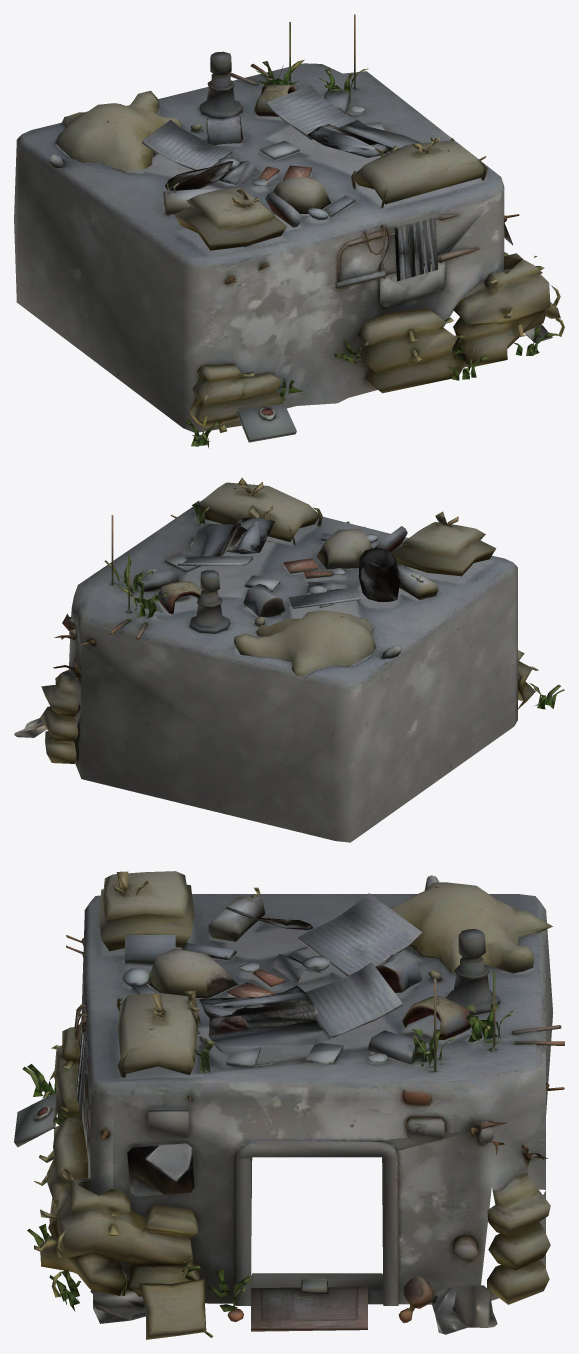
File: abandoned_fortification.glb
The picture shows the model from 3 angles, top to bottom: view 1: azimuth 30°, elevation 25°; view 2: azimuth 150°, elevation 25°; view 3: azimuth 270°, elevation 25°; orthographic projection. The views are drawn at different scales.
Parts seen in each view (by area): view 1: tripo_node_e37e1a8c-0bfc-4441-a656-458e9c6b03d7; view 2: tripo_node_e37e1a8c-0bfc-4441-a656-458e9c6b03d7; view 3: tripo_node_e37e1a8c-0bfc-4441-a656-458e9c6b03d7.
Part boxes in pixels (box(x1,y1,x2,y2)): tripo_node_e37e1a8c-0bfc-4441-a656-458e9c6b03d7: box(14, 14, 564, 448); tripo_node_e37e1a8c-0bfc-4441-a656-458e9c6b03d7: box(14, 477, 564, 842); tripo_node_e37e1a8c-0bfc-4441-a656-458e9c6b03d7: box(14, 871, 564, 1339).
Size of the model in its own units: 0.998 by 0.5684 by 0.9121.
1 material, 1 textured.
